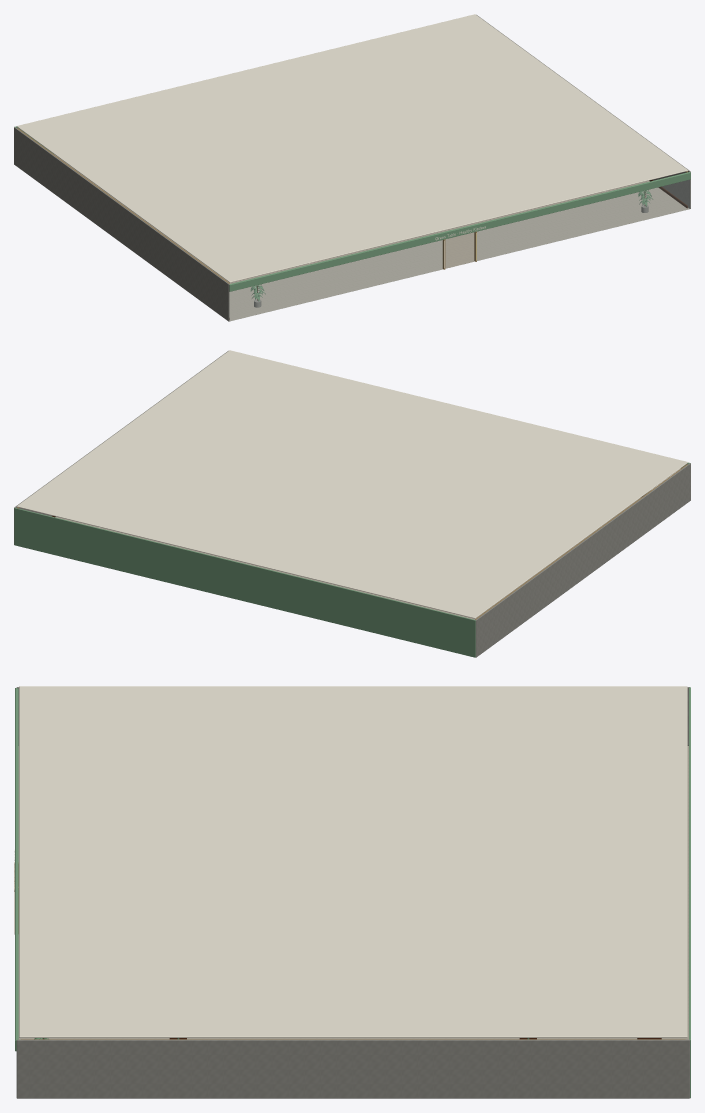
File: healthy.glb
3 renders of one model, top to bottom at view 1: azimuth 30°, elevation 25°; view 2: azimuth 150°, elevation 25°; view 3: azimuth 270°, elevation 25°, orthographic. The views are drawn at different scales.
Parts seen in each view (by area): view 1: Batched AUR-B1-HEALTHY::Warm porcelain, Batched AUR-B1-HEALTHY::Cream marble, Batched AUR-B1-HEALTHY::Tenant glass, Batched AUR-B1-HEALTHY::Travertine, Batched AUR-B1-HEALTHY::Tenant healthy, Batched AUR-B1-HEALTHY::Bronze; view 2: Batched AUR-B1-HEALTHY::Warm porcelain, Batched AUR-B1-HEALTHY::Tenant healthy, Batched AUR-B1-HEALTHY::Travertine, Batched AUR-B1-HEALTHY::Cream marble; view 3: Batched AUR-B1-HEALTHY::Warm porcelain, Batched AUR-B1-HEALTHY::Travertine, Batched AUR-B1-HEALTHY::Tenant healthy, Batched AUR-B1-HEALTHY::Cream marble, Batched AUR-B1-HEALTHY::Bronze.
Part boxes in pixels (x1,y1,x2,y2): Batched AUR-B1-HEALTHY::Warm porcelain: (16, 14, 688, 282); Batched AUR-B1-HEALTHY::Cream marble: (54, 154, 689, 321); Batched AUR-B1-HEALTHY::Tenant glass: (230, 180, 689, 320); Batched AUR-B1-HEALTHY::Travertine: (14, 14, 690, 321); Batched AUR-B1-HEALTHY::Tenant healthy: (14, 126, 690, 291); Batched AUR-B1-HEALTHY::Bronze: (17, 128, 687, 283); Batched AUR-B1-HEALTHY::Warm porcelain: (16, 350, 688, 618); Batched AUR-B1-HEALTHY::Tenant healthy: (14, 462, 690, 657); Batched AUR-B1-HEALTHY::Travertine: (14, 350, 690, 657); Batched AUR-B1-HEALTHY::Cream marble: (55, 490, 650, 619); Batched AUR-B1-HEALTHY::Warm porcelain: (14, 686, 687, 1037); Batched AUR-B1-HEALTHY::Travertine: (16, 687, 689, 1098); Batched AUR-B1-HEALTHY::Tenant healthy: (15, 687, 690, 1098); Batched AUR-B1-HEALTHY::Cream marble: (18, 746, 688, 1039); Batched AUR-B1-HEALTHY::Bronze: (14, 862, 685, 1039).
Size of the model in its own units: 62.16 by 4.97 by 50.29.
11 materials, 4 textured.
